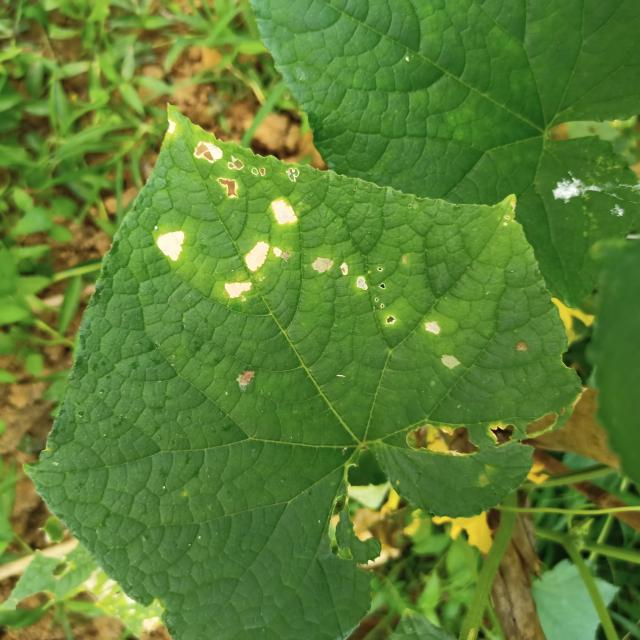disease_cucumber: (156, 113, 478, 384)
